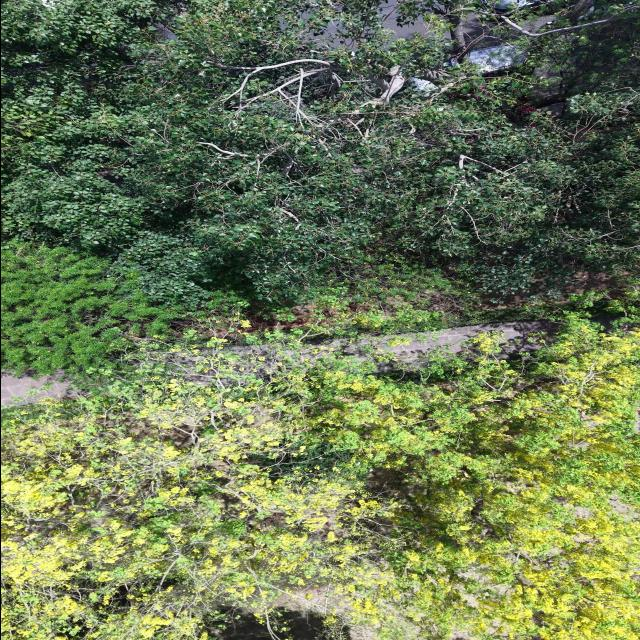DRY_AREA: (165, 320, 558, 382), (168, 320, 558, 382), (168, 320, 557, 376), (221, 320, 558, 371), (214, 584, 344, 639), (212, 611, 324, 639), (377, 0, 432, 44)
PATHWAYS: (167, 320, 559, 382), (1, 372, 71, 404)
VEGETATION_TREE: (1, 0, 639, 639), (1, 318, 639, 639), (3, 0, 639, 312), (1, 241, 183, 376)
